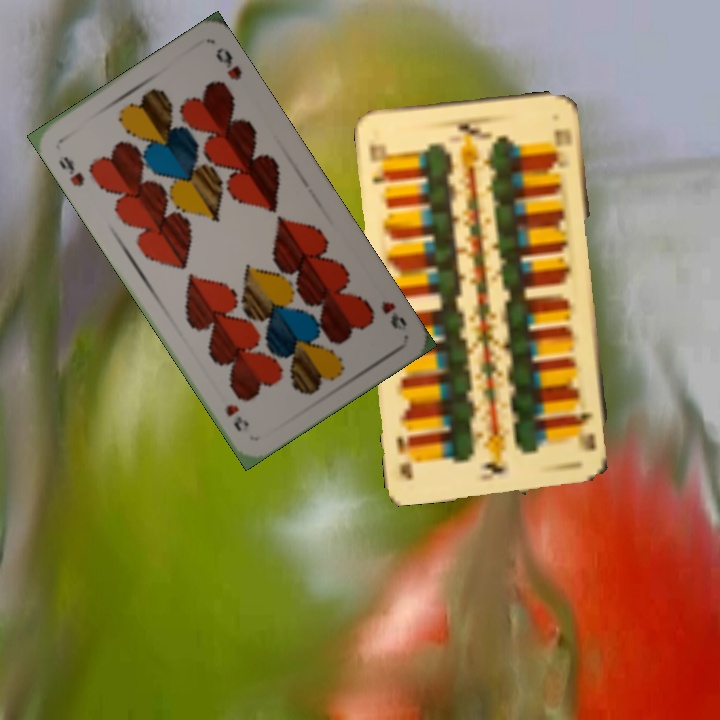E10: (572, 408, 600, 454), (365, 139, 392, 186)
H9: (377, 296, 410, 334), (54, 152, 87, 189)
